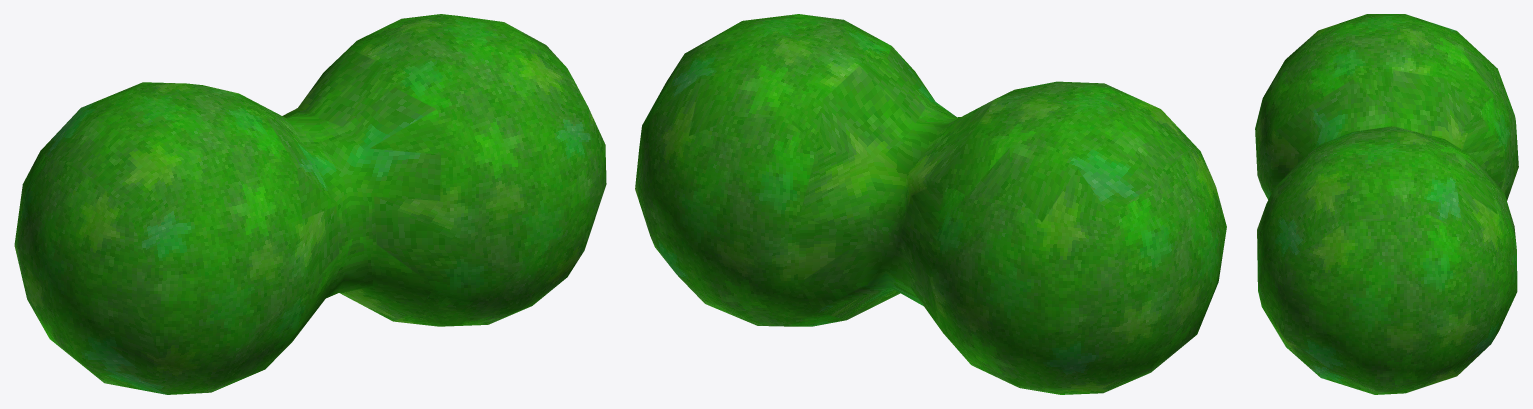
The model's file is HikeGardenPeanutPlanetLow.fbx.
The picture shows the model from 3 angles, left to right: view 1: azimuth 30°, elevation 25°; view 2: azimuth 150°, elevation 25°; view 3: azimuth 270°, elevation 25°; orthographic projection. The views are drawn at different scales.
Parts seen in each view (by area): view 1: mesh-0.001; view 2: mesh-0.001; view 3: mesh-0.001.
Part boxes in pixels (box(x1,y1,x2,y2)): mesh-0.001: box(14, 14, 606, 394); mesh-0.001: box(635, 14, 1226, 394); mesh-0.001: box(1255, 14, 1518, 394).
Size of the model in its own units: 182182 by 89635 by 90566.
1 material, 1 textured.
